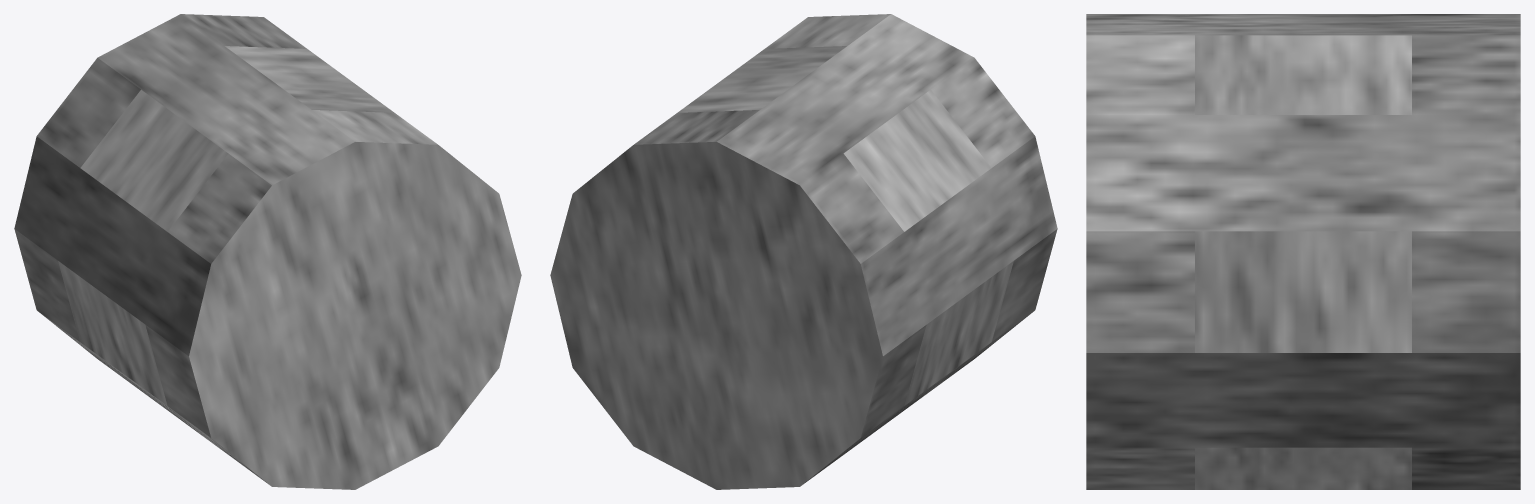
Rendered from GunBarrel.obj.
3 renders of one model, left to right at view 1: azimuth 30°, elevation 25°; view 2: azimuth 150°, elevation 25°; view 3: azimuth 270°, elevation 25°, orthographic. The views are drawn at different scales.
Parts seen in each view (by area): view 1: Cube.003; view 2: Cube.003; view 3: Cube.003.
Part boxes in pixels (left/top/right/bottom): Cube.003: left=14, top=14, right=521, bottom=489; Cube.003: left=550, top=14, right=1057, bottom=489; Cube.003: left=1086, top=14, right=1520, bottom=489.
Bounding box in the file's own units: 2.2 × 2.2 × 2.
